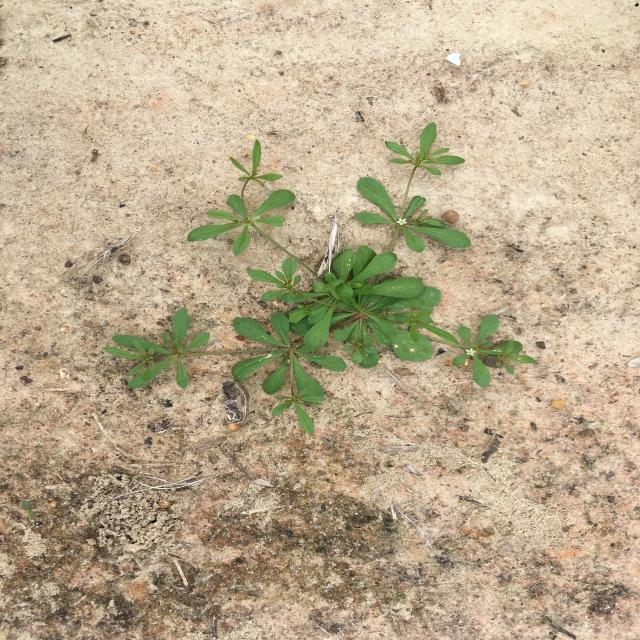Carpetweed: (102, 122, 535, 434)
